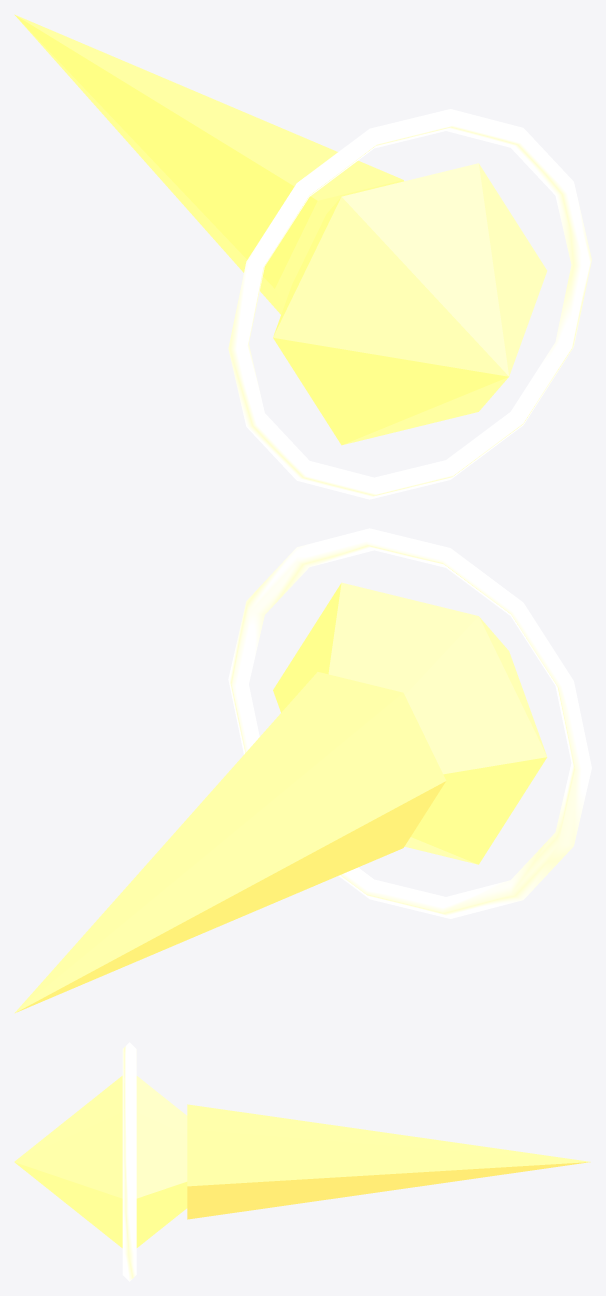
Rendered from proj_holy.glb.
3 views of the same model, one above another, from view 1: azimuth 30°, elevation 25°; view 2: azimuth 150°, elevation 25°; view 3: azimuth 270°, elevation 25° (orthographic). The views are drawn at different scales.
Parts seen in each view (by area): view 1: proj_holy; view 2: proj_holy; view 3: proj_holy.
Part boxes in pixels (x1=…): proj_holy: x1=14, y1=14, x2=591, y2=499; proj_holy: x1=14, y1=528, x2=591, y2=1013; proj_holy: x1=14, y1=1042, x2=590, y2=1281.
Bounding box in the file's own units: 0.424 × 0.4134 × 1.
